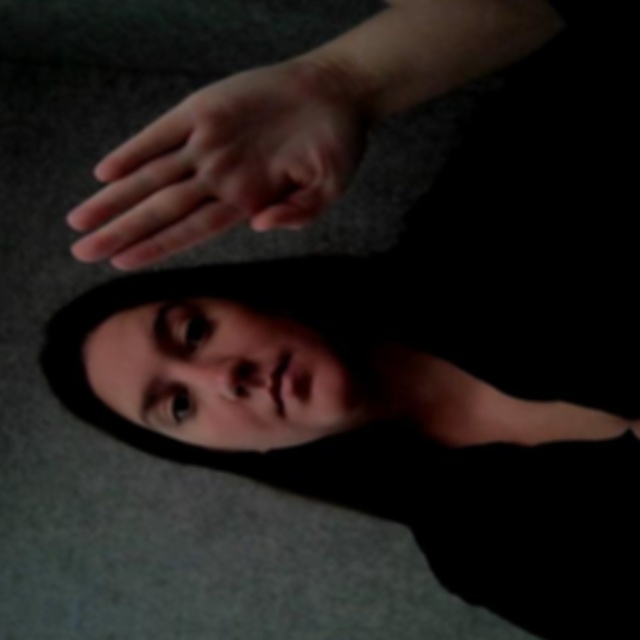Paper: (60, 47, 368, 298)
